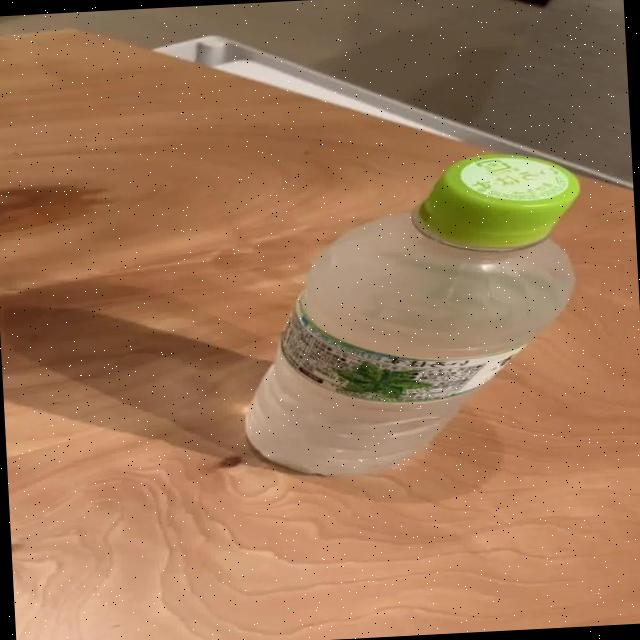bottle: (228, 148, 600, 484)
cap: (407, 154, 584, 264)
label: (268, 292, 532, 422)
